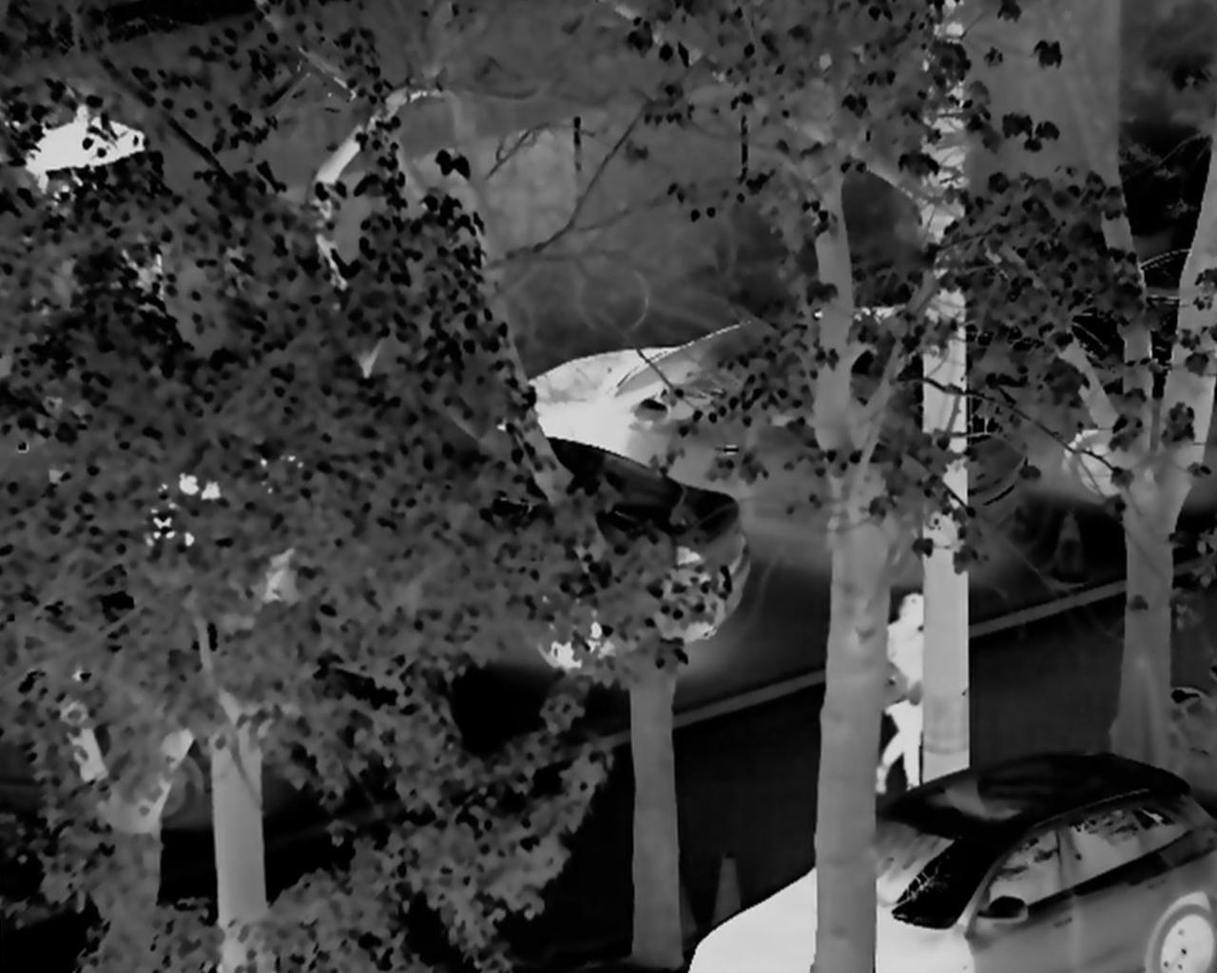person: (876, 596, 924, 792)
